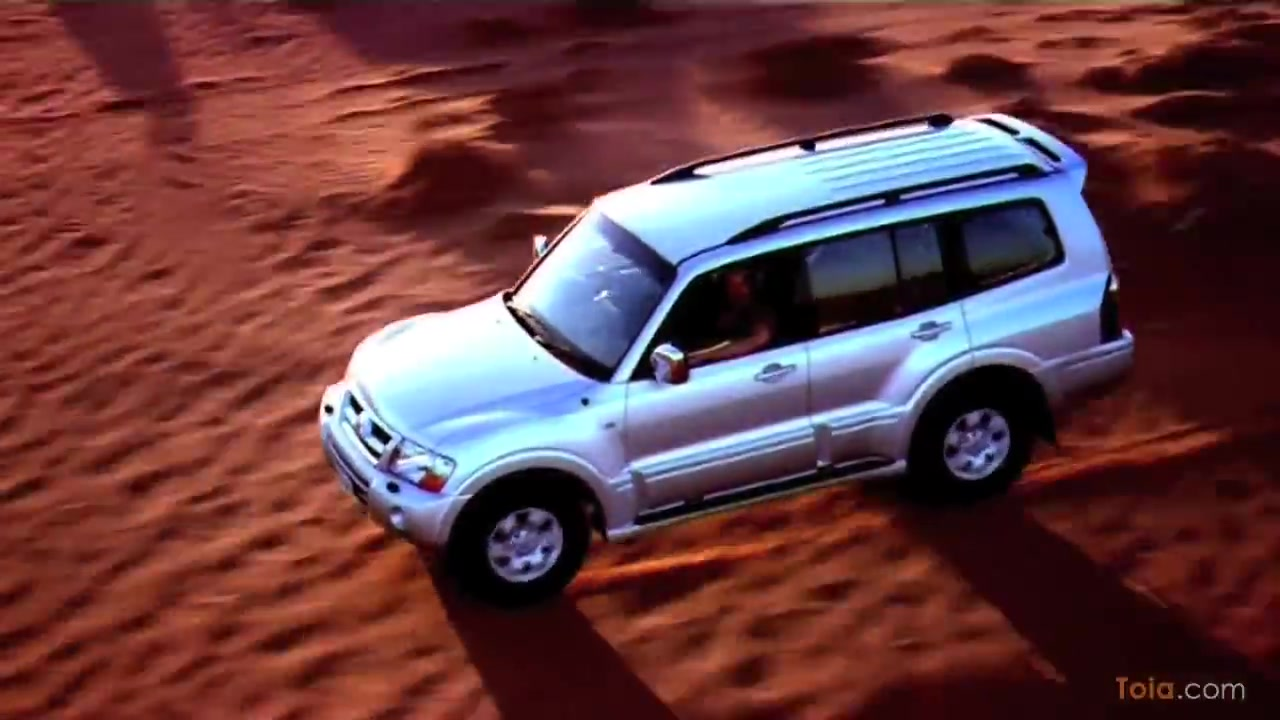car: (316, 108, 1145, 607)
